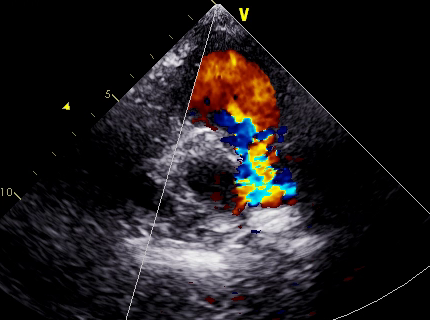PR: (235, 136, 296, 219)
